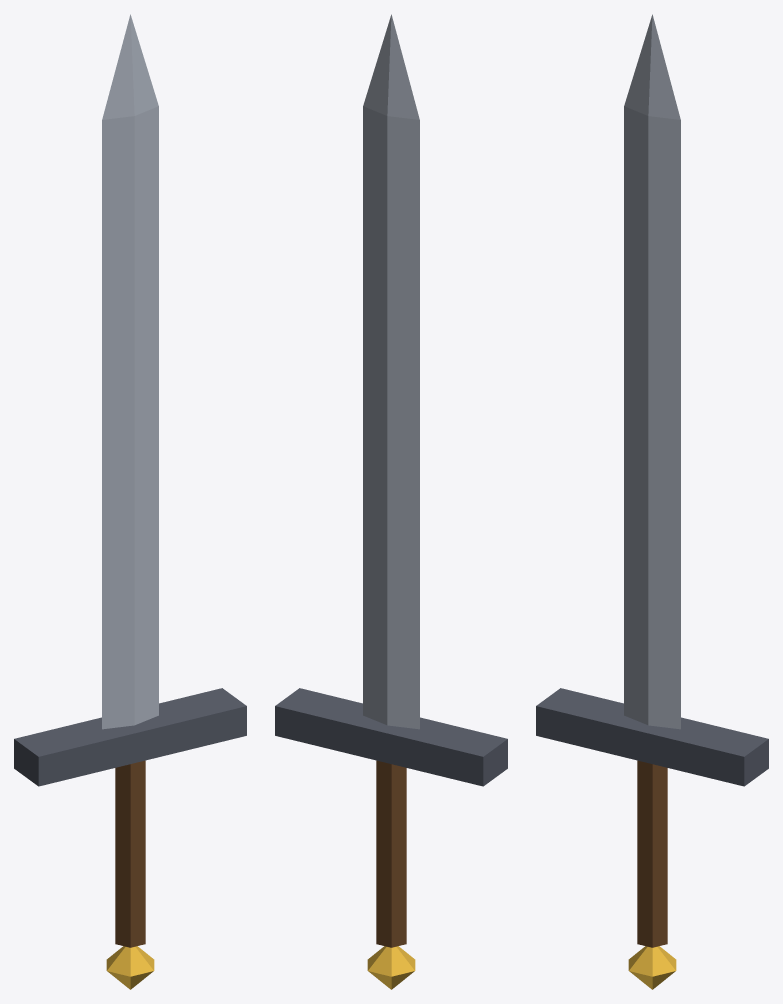
File: sword.glb
3 renders of one model, left to right at view 1: azimuth 30°, elevation 25°; view 2: azimuth 150°, elevation 25°; view 3: azimuth 330°, elevation 25°, orthographic.
Parts seen in each view (by area): view 1: Sword; view 2: Sword; view 3: Sword.
Boxes of the visible parts, box(x1,y1,x2,y2) form: Sword: box(14, 14, 246, 989); Sword: box(275, 14, 507, 989); Sword: box(536, 14, 768, 989).
Bounding box in the file's own units: 0.22 × 0.985 × 0.045.
